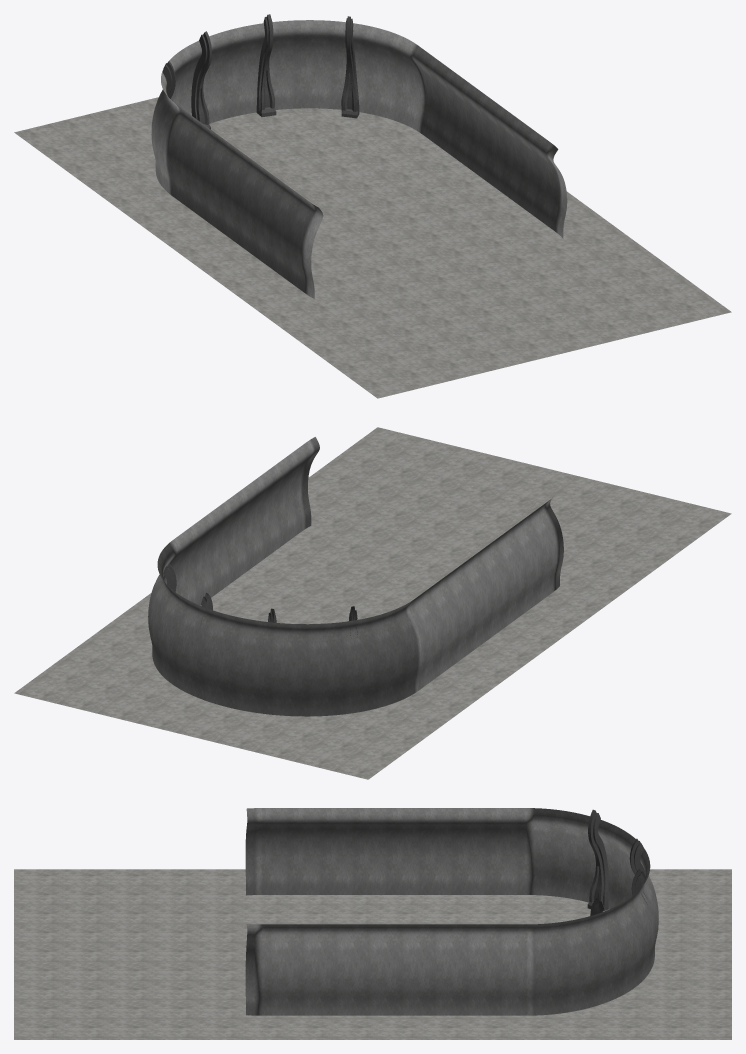
The model's file is Textured_Background.fbx.
3 views of the same model, one above another, from view 1: azimuth 30°, elevation 25°; view 2: azimuth 150°, elevation 25°; view 3: azimuth 270°, elevation 25° (orthographic).
Parts seen in each view (by area): view 1: Floor, Wall, Pole, Pole3, Pole1; view 2: Floor, Wall; view 3: Floor, Wall, Pole2.
Boxes of the visible parts, x1=… form: Floor: x1=14, y1=97, x2=731, y2=398; Wall: x1=151, y1=20, x2=567, y2=298; Pole: x1=256, y1=14, x2=276, y2=116; Pole3: x1=341, y1=16, x2=359, y2=118; Pole1: x1=191, y1=31, x2=211, y2=129; Floor: x1=14, y1=427, x2=731, y2=779; Wall: x1=148, y1=437, x2=563, y2=716; Floor: x1=14, y1=869, x2=731, y2=1039; Wall: x1=245, y1=808, x2=658, y2=1015; Pole2: x1=587, y1=809, x2=608, y2=911.
Bounding box in the file's own units: 123 × 34.2 × 219.
